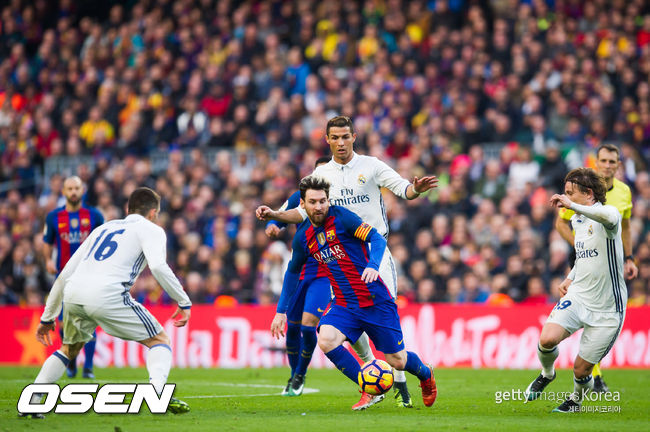barcelona: (289, 188, 443, 414), (43, 182, 97, 386)
realmadrid: (49, 190, 199, 411), (532, 166, 621, 411), (308, 122, 439, 225)
